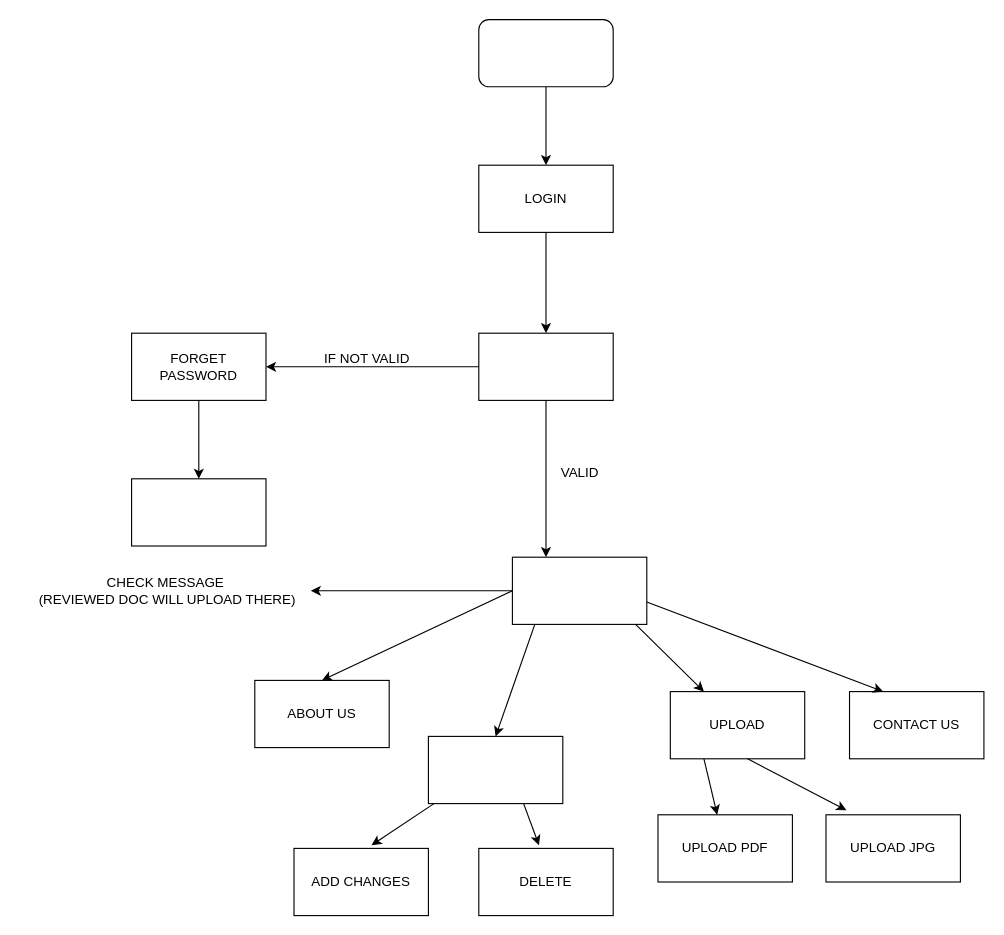
Some shapes in this 1004 by 935 pixel diagram are drawn without their labels. Each missing label, with the box of its shape:
HOME: (511, 556, 647, 624)
RESET PASSWORD: (130, 478, 266, 546)
REVIEW: (427, 735, 563, 804)
START: (478, 18, 613, 87)
USER NAME AND PASSWORD: (478, 332, 613, 400)
